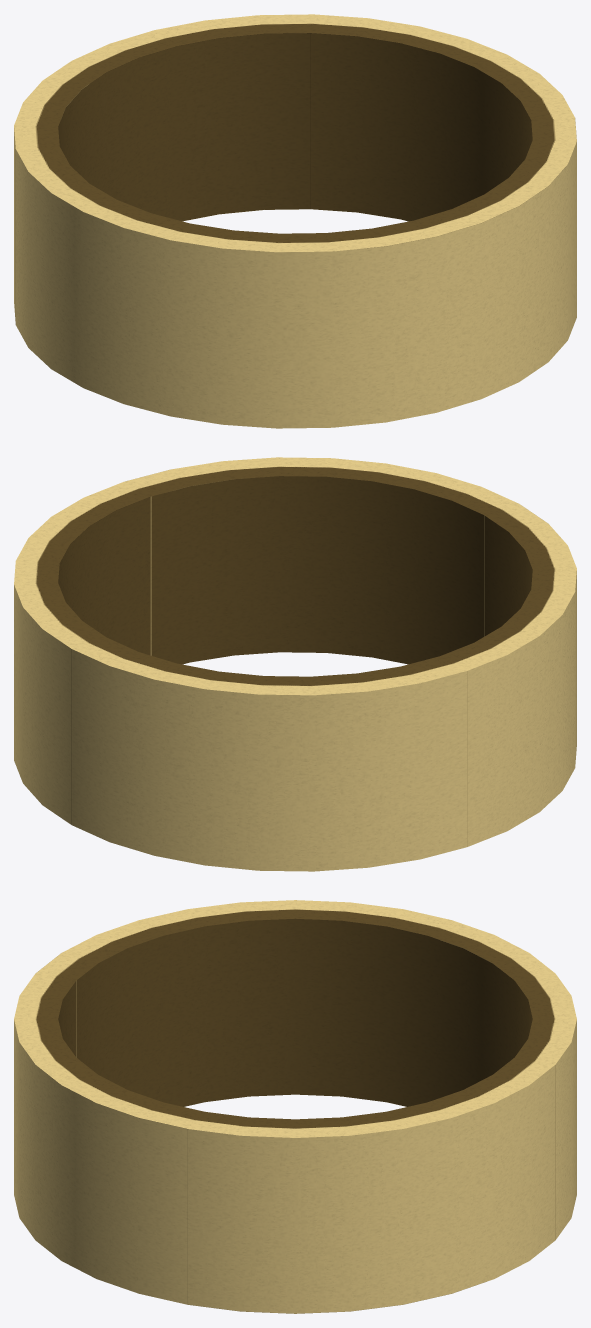
File: KitchenTapeRoll.fbx
3 views of the same model, one above another, from view 1: azimuth 30°, elevation 25°; view 2: azimuth 150°, elevation 25°; view 3: azimuth 270°, elevation 25° (orthographic).
Parts seen in each view (by area): view 1: KitchenTapeRoll_Baked; view 2: KitchenTapeRoll_Baked; view 3: KitchenTapeRoll_Baked.
Boxes of the visible parts, <box> form: KitchenTapeRoll_Baked: <box>14,14,576,428</box>; KitchenTapeRoll_Baked: <box>14,457,576,871</box>; KitchenTapeRoll_Baked: <box>14,900,576,1313</box>.
Bounding box in the file's own units: 12.33 × 4.25 × 12.33.
Materials: 1 (1 with a texture image).
